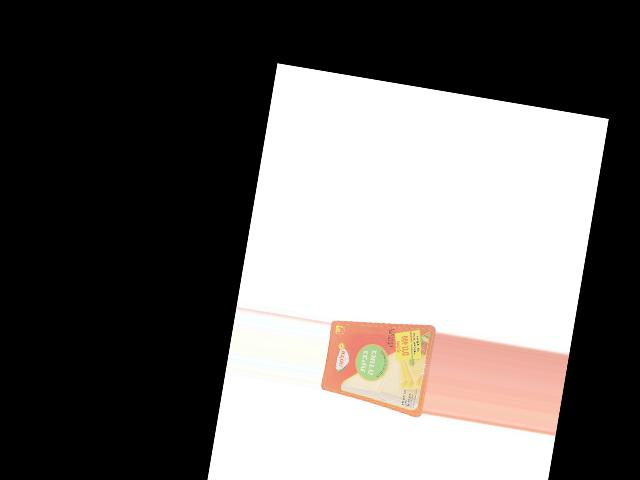cheese: (319, 308, 437, 417)
